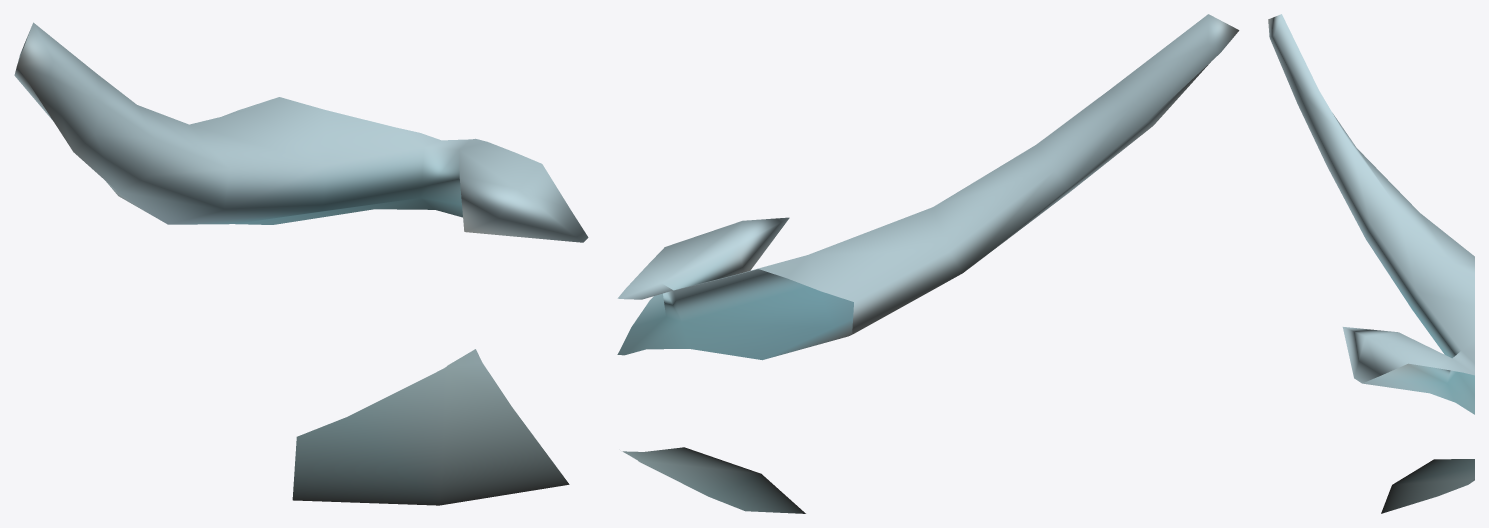
The picture shows the model from 3 angles, left to right: view 1: azimuth 30°, elevation 25°; view 2: azimuth 150°, elevation 25°; view 3: azimuth 270°, elevation 25°; orthographic projection. The views are drawn at different scales.
Parts seen in each view (by area): view 1: G:\FFXIV-MapTools\exports\s1f2\bg\ffxiv\sea_s1\fld\s1f2\bgpl (×2); view 2: G:\FFXIV-MapTools\exports\s1f2\bg\ffxiv\sea_s1\fld\s1f2\bgpl (×2); view 3: G:\FFXIV-MapTools\exports\s1f2\bg\ffxiv\sea_s1\fld\s1f2\bgpl (×2).
Boxes of the visible parts, x1,y1,x2,y2 form: G:\FFXIV-MapTools\exports\s1f2\bg\ffxiv\sea_s1\fld\s1f2\bgpl (×2): (14, 22, 588, 505); G:\FFXIV-MapTools\exports\s1f2\bg\ffxiv\sea_s1\fld\s1f2\bgpl (×2): (617, 14, 1239, 513); G:\FFXIV-MapTools\exports\s1f2\bg\ffxiv\sea_s1\fld\s1f2\bgpl (×2): (1268, 14, 1474, 513).
Size of the model in its own units: 42.05 by 41.66 by 22.62.
